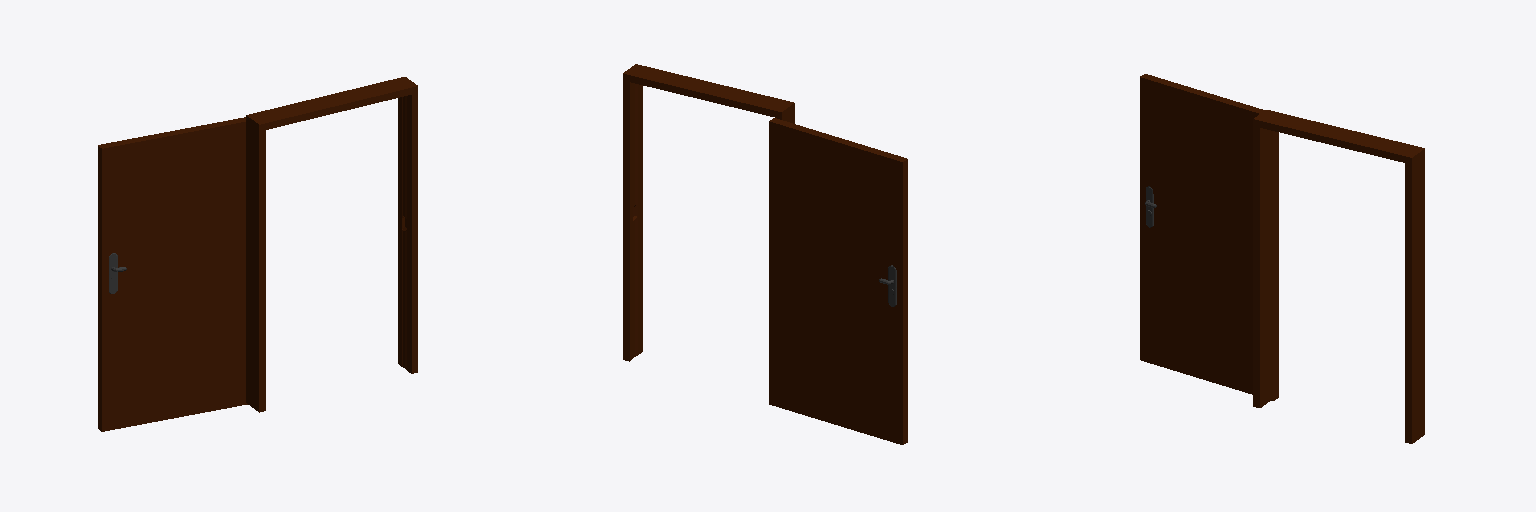
The model's file is porta.obj.
3 renders of one model, left to right at view 1: azimuth 30°, elevation 25°; view 2: azimuth 150°, elevation 25°; view 3: azimuth 330°, elevation 25°, orthographic.
Visible parts, largest first — view 1: Cube, OutBoddy; view 2: Cube, OutBoddy; view 3: Cube, OutBoddy.
Part boxes in pixels (left/top/right/bottom): Cube: left=98, top=117, right=247, bottom=431; OutBoddy: left=246, top=77, right=417, bottom=412; Cube: left=769, top=118, right=907, bottom=444; OutBoddy: left=623, top=64, right=794, bottom=361; Cube: left=1140, top=74, right=1278, bottom=400; OutBoddy: left=1253, top=110, right=1424, bottom=443.
Bounding box in the file's own units: 13.3 × 12.52 × 2.37.